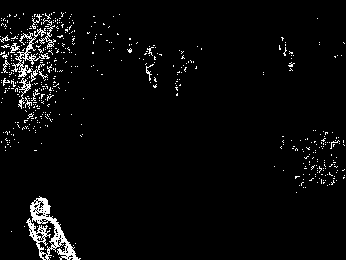person: (27, 196, 80, 260)
